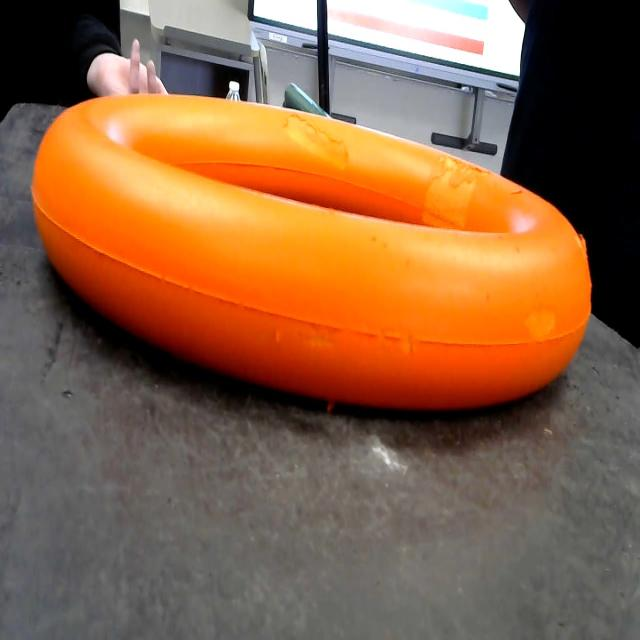note: (31, 78, 606, 422)
